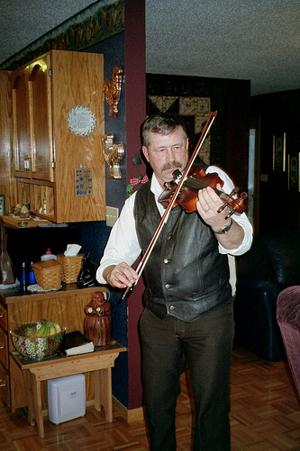person: (96, 120, 256, 451)
